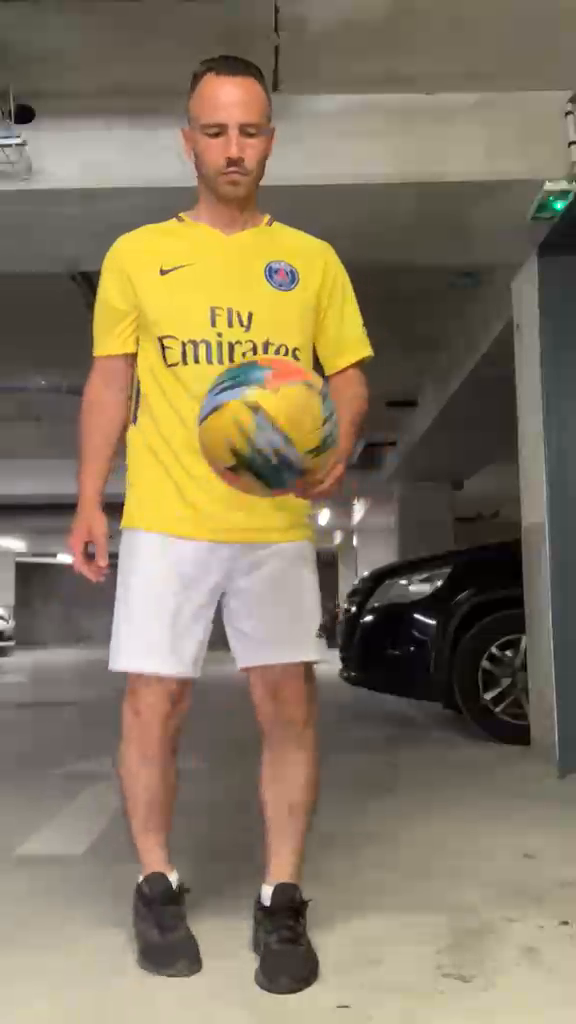ball: (193, 355, 333, 495)
